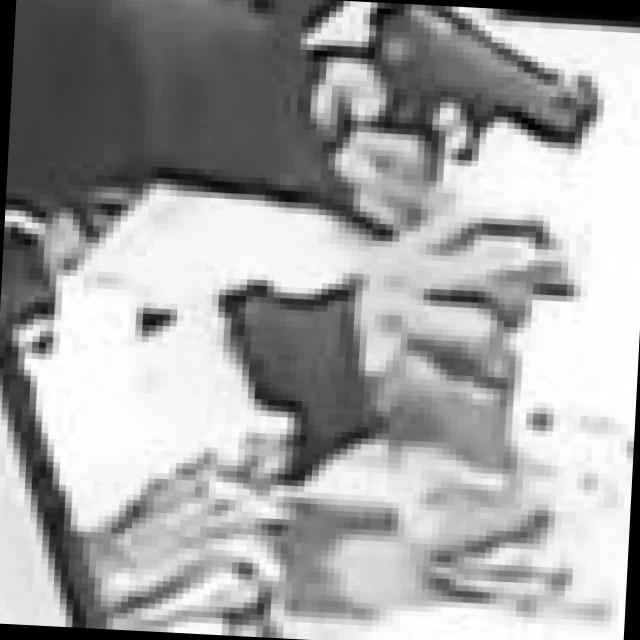Guns: (319, 0, 640, 231)
